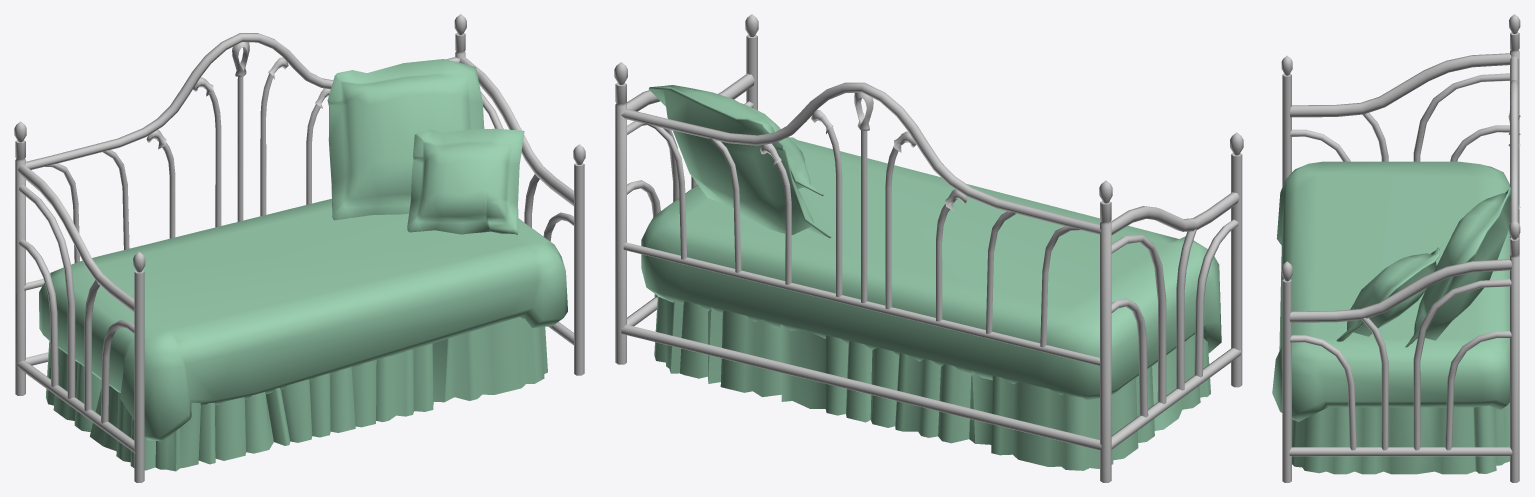
File: BDSF19.FBX
The picture shows the model from 3 angles, left to right: view 1: azimuth 30°, elevation 25°; view 2: azimuth 150°, elevation 25°; view 3: azimuth 270°, elevation 25°; orthographic projection. The views are drawn at different scales.
Visible parts, largest first — view 1: BDSF19; view 2: BDSF19; view 3: BDSF19.
Boxes of the visible parts, x1,y1,x2,y2 form: BDSF19: (14,14,585,482); BDSF19: (614,14,1243,482); BDSF19: (1272,14,1520,482).
Size of the model in its own units: 200 by 100 by 130.
